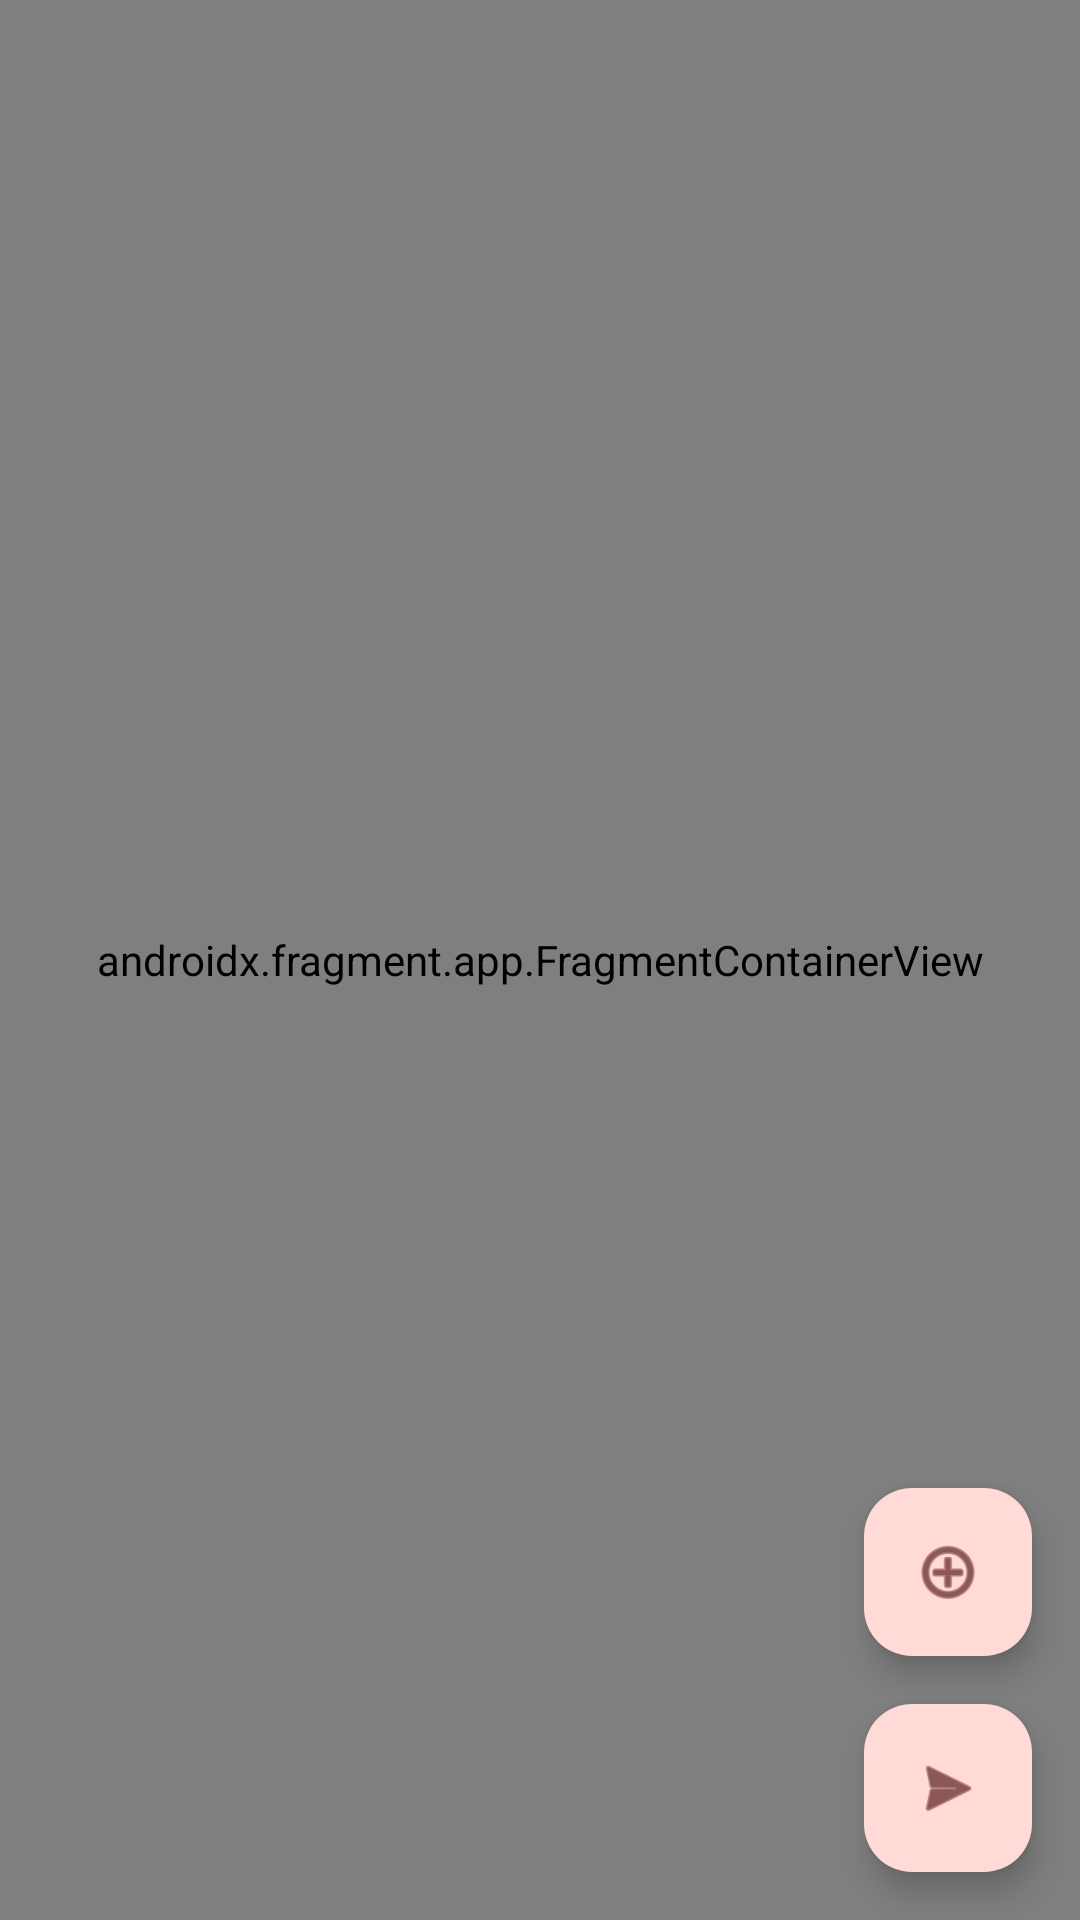

Icon click points for this 1080×1920 phone screenshot, format point (x, y):
Botão de adicionar ponto: point (948, 1572)
Botão de enviar: point (948, 1788)
